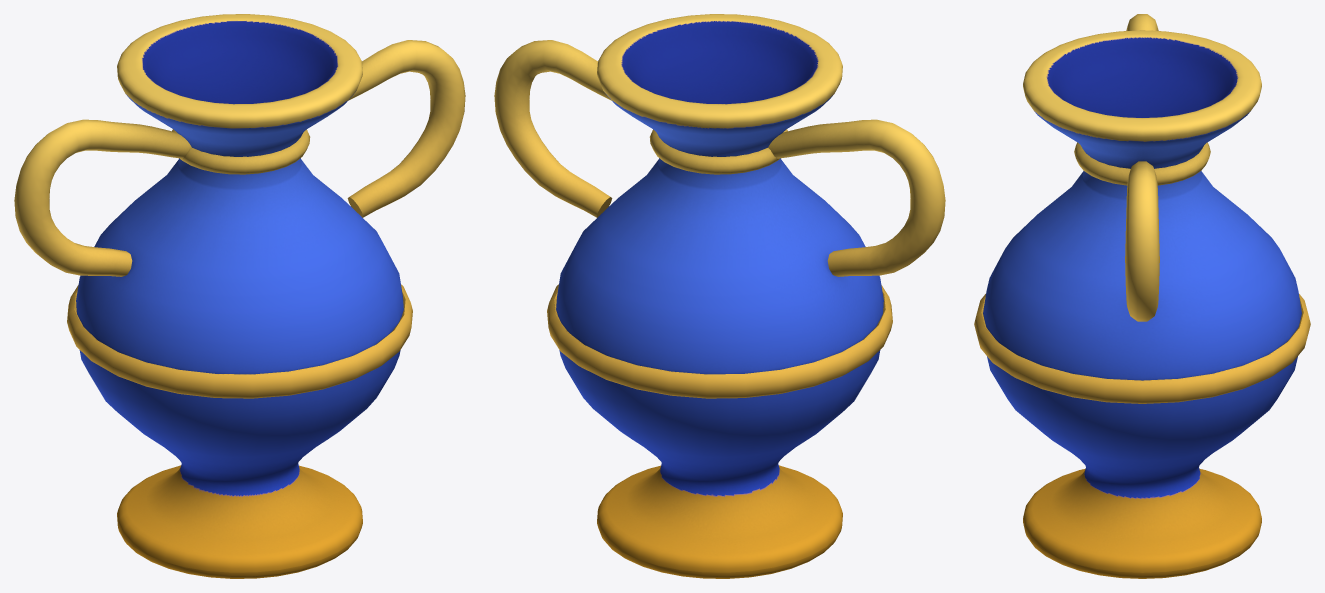
File: ArtV9_Amphora2.fbx
3 renders of one model, left to right at view 1: azimuth 30°, elevation 25°; view 2: azimuth 150°, elevation 25°; view 3: azimuth 270°, elevation 25°, orthographic. The views are drawn at different scales.
Visible parts, largest first — view 1: ArtV9_Amphora2; view 2: ArtV9_Amphora2; view 3: ArtV9_Amphora2.
Boxes of the visible parts, x1=… form: ArtV9_Amphora2: x1=14, y1=14, x2=465, y2=578; ArtV9_Amphora2: x1=494, y1=14, x2=945, y2=578; ArtV9_Amphora2: x1=974, y1=14, x2=1310, y2=578.
Size of the model in its own units: 3.47 by 3.49 by 2.34.
